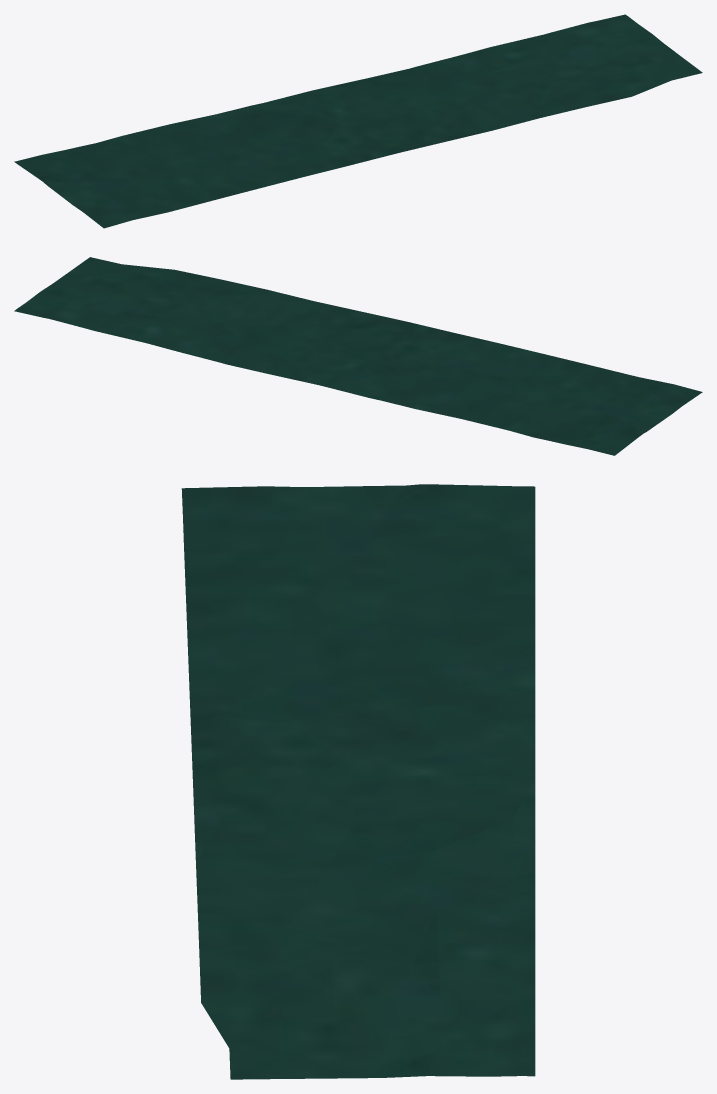
The picture shows the model from 3 angles, top to bottom: view 1: azimuth 30°, elevation 25°; view 2: azimuth 150°, elevation 25°; view 3: azimuth 270°, elevation 25°; orthographic projection. The views are drawn at different scales.
Bounding box in the file's own units: 52.22 × 0.3914 × 13.31.
Materials: 1 (1 with a texture image).
